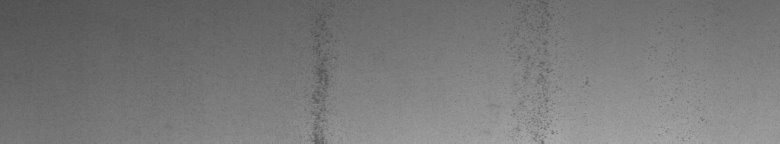ib: (511, 4, 590, 136)
